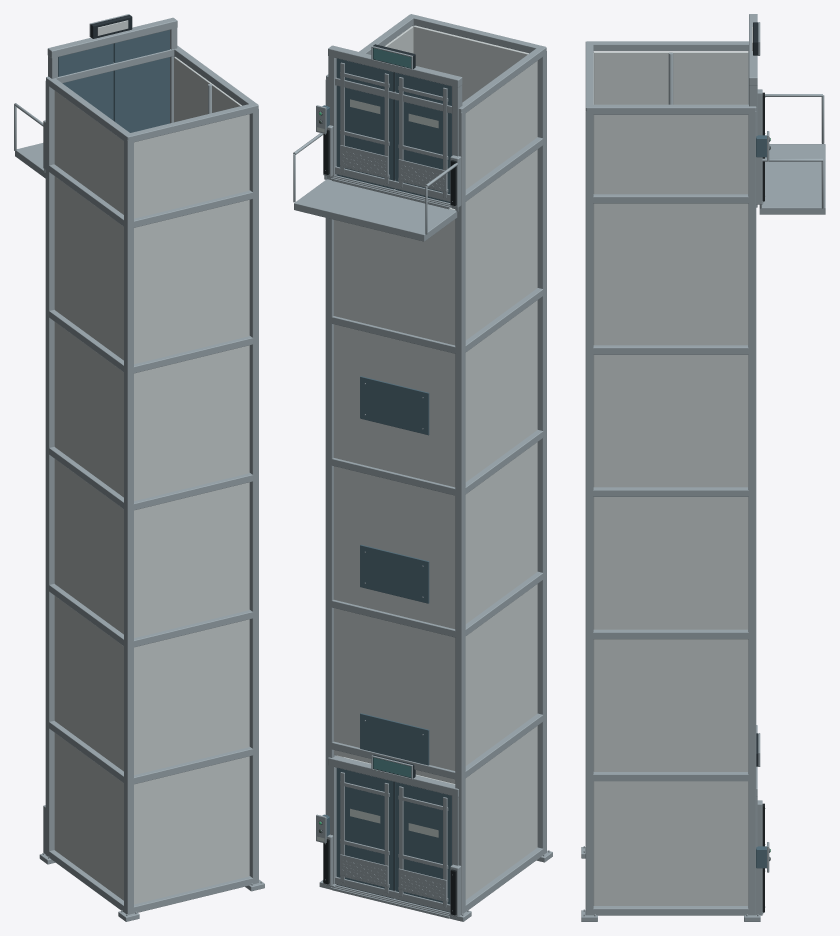
File: OD_VL_FreightHoist.fbx
3 views of the same model, side by side, from view 1: azimuth 30°, elevation 25°; view 2: azimuth 150°, elevation 25°; view 3: azimuth 270°, elevation 25° (orthographic). The views are drawn at different scales.
Parts seen in each view (by area): view 1: OD_VL_FreightHoist; view 2: OD_VL_FreightHoist; view 3: OD_VL_FreightHoist.
Part boxes in pixels (bbox=[...]): OD_VL_FreightHoist: bbox=[14, 14, 264, 921]; OD_VL_FreightHoist: bbox=[293, 14, 552, 921]; OD_VL_FreightHoist: bbox=[581, 14, 825, 921].
Bounding box in the file's own units: 340 × 1924 × 498.
